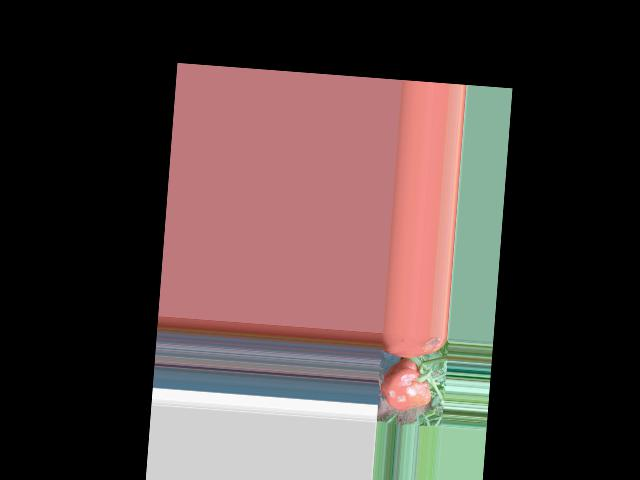bell_pepper: (376, 358, 438, 410)
